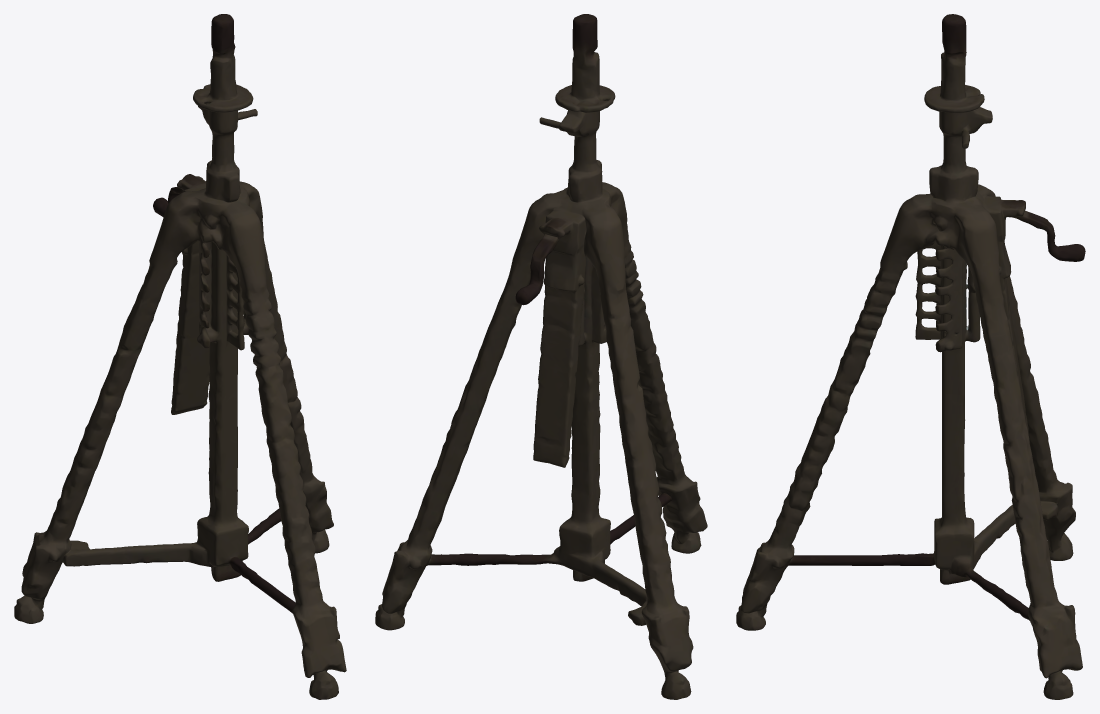
File: laser-level-tripod.glb
3 views of the same model, side by side, from view 1: azimuth 30°, elevation 25°; view 2: azimuth 150°, elevation 25°; view 3: azimuth 270°, elevation 25° (orthographic).
Visible parts, largest first — view 1: tripo_node_4101c712-a01a-4ce1-a62a-dfbf292acfb5; view 2: tripo_node_4101c712-a01a-4ce1-a62a-dfbf292acfb5; view 3: tripo_node_4101c712-a01a-4ce1-a62a-dfbf292acfb5.
Part boxes in pixels (<box>): tripo_node_4101c712-a01a-4ce1-a62a-dfbf292acfb5: <box>14,14,346,699</box>; tripo_node_4101c712-a01a-4ce1-a62a-dfbf292acfb5: <box>375,14,707,699</box>; tripo_node_4101c712-a01a-4ce1-a62a-dfbf292acfb5: <box>736,14,1085,699</box>.
Size of the model in its own units: 0.5395 by 1 by 0.5201.
1 material, 1 textured.
